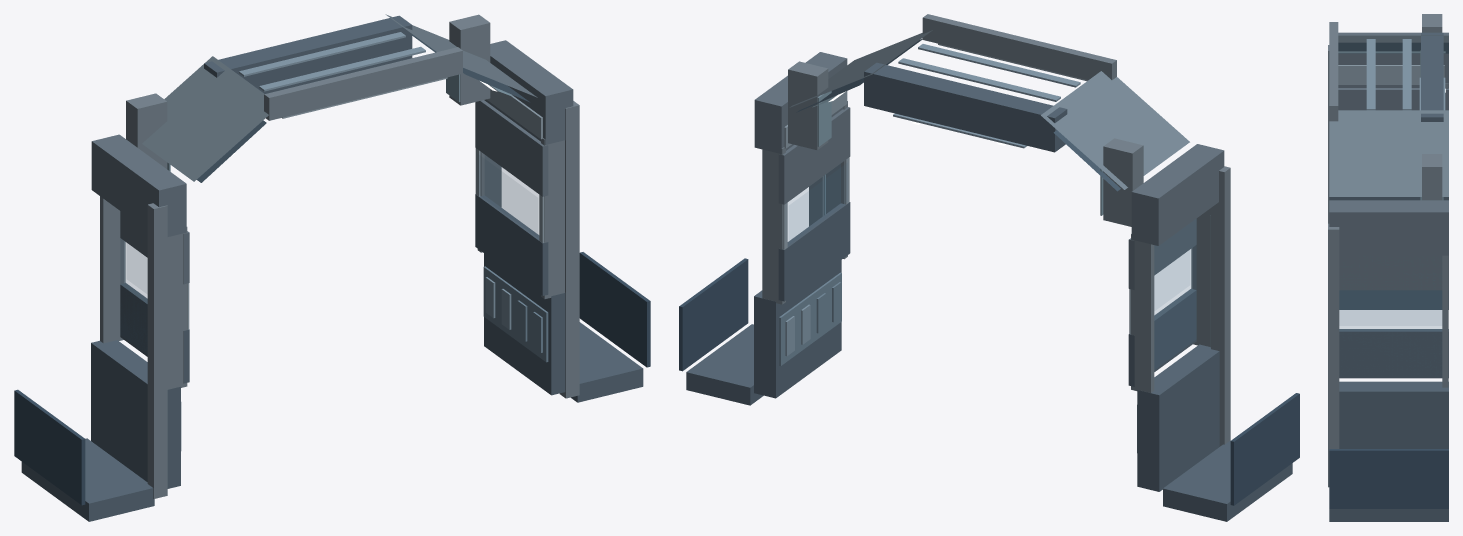
File: continuum-bays-v1.gltf
3 views of the same model, side by side, from view 1: azimuth 30°, elevation 25°; view 2: azimuth 150°, elevation 25°; view 3: azimuth 270°, elevation 25° (orthographic). The views are drawn at different scales.
Parts seen in each view (by area): view 1: PANORAMA_SHELL, SERVICE_SHELL, GATE_SHELL, PANORAMA_INLAY, SERVICE_INLAY; view 2: PANORAMA_SHELL, GATE_SHELL, SERVICE_SHELL, PANORAMA_INLAY, SERVICE_INLAY, GATE_INLAY; view 3: PANORAMA_SHELL, SERVICE_SHELL, GATE_SHELL, PANORAMA_INLAY, SERVICE_INLAY, GATE_INLAY.
Boxes of the visible parts, bbox=[...] form: PANORAMA_SHELL: bbox=[14, 14, 650, 521]; SERVICE_SHELL: bbox=[120, 100, 548, 383]; GATE_SHELL: bbox=[126, 14, 490, 168]; PANORAMA_INLAY: bbox=[124, 77, 548, 450]; SERVICE_INLAY: bbox=[239, 32, 425, 91]; PANORAMA_SHELL: bbox=[679, 14, 1299, 521]; GATE_SHELL: bbox=[788, 61, 1143, 226]; SERVICE_SHELL: bbox=[778, 107, 1196, 386]; PANORAMA_INLAY: bbox=[779, 43, 1210, 452]; SERVICE_INLAY: bbox=[898, 44, 1080, 101]; GATE_INLAY: bbox=[817, 91, 1103, 215]; PANORAMA_SHELL: bbox=[1328, 22, 1448, 521]; SERVICE_SHELL: bbox=[1329, 88, 1448, 378]; GATE_SHELL: bbox=[1421, 14, 1443, 200]; PANORAMA_INLAY: bbox=[1338, 51, 1445, 84]; SERVICE_INLAY: bbox=[1366, 39, 1411, 110]; GATE_INLAY: bbox=[1419, 50, 1445, 200].
Size of the model in its own units: 78 by 49.8 by 16.15.
